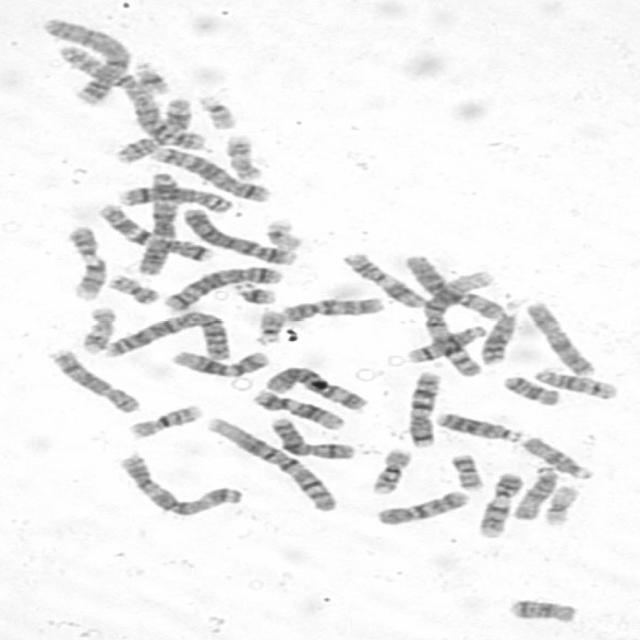A1: (198, 413, 342, 513), (416, 266, 499, 376)
A2: (54, 41, 210, 152), (100, 307, 237, 362)
A3: (114, 450, 246, 518), (129, 168, 181, 276)
B4: (36, 15, 134, 106), (178, 204, 298, 266)
B5: (148, 144, 273, 202), (160, 262, 286, 314)
C10: (371, 486, 472, 527), (277, 292, 387, 324)
C11: (110, 96, 192, 166), (338, 248, 430, 308)
C12: (248, 387, 348, 431), (166, 346, 272, 378)
C6: (401, 250, 508, 320), (260, 362, 372, 412)
C7: (90, 199, 216, 263), (403, 367, 444, 449)
C8: (44, 345, 144, 415), (114, 182, 235, 215)
C9: (62, 224, 110, 302), (474, 469, 524, 539)
D13: (432, 408, 524, 443), (476, 299, 524, 366)
D14: (404, 322, 491, 364), (530, 364, 622, 400)
D15: (518, 432, 596, 480), (510, 463, 560, 521)
E16: (123, 400, 205, 440), (365, 444, 413, 496)
E17: (221, 130, 266, 182), (75, 303, 118, 355)
E18: (505, 594, 581, 624), (498, 372, 563, 406)
F19: (540, 482, 583, 527), (260, 215, 306, 251)
F20: (104, 271, 162, 305), (445, 449, 487, 492)
G21: (130, 58, 172, 95), (230, 278, 279, 306)
G22: (193, 92, 240, 130), (250, 305, 289, 346)
X: (521, 298, 600, 376), (265, 414, 359, 460)
